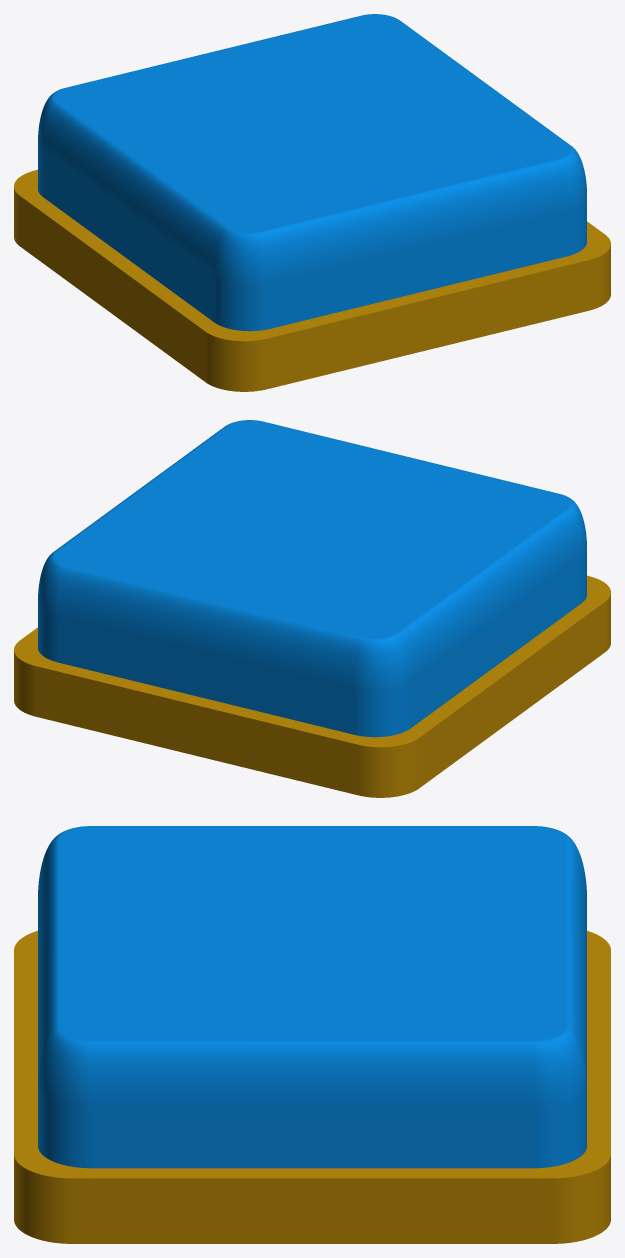
The model's file is PWSwitch.fbx.
3 renders of one model, top to bottom at view 1: azimuth 30°, elevation 25°; view 2: azimuth 150°, elevation 25°; view 3: azimuth 270°, elevation 25°, orthographic. The views are drawn at different scales.
Visible parts, largest first — view 1: SwitchButton, SwitchRing; view 2: SwitchButton, SwitchRing; view 3: SwitchButton, SwitchRing.
Part boxes in pixels (bbox=[...]): SwitchButton: bbox=[38, 14, 586, 331]; SwitchRing: bbox=[14, 169, 610, 391]; SwitchButton: bbox=[38, 420, 586, 737]; SwitchRing: bbox=[14, 575, 610, 797]; SwitchButton: bbox=[38, 826, 586, 1168]; SwitchRing: bbox=[14, 930, 610, 1243].
Bounding box in the file's own units: 330 × 112 × 330.
